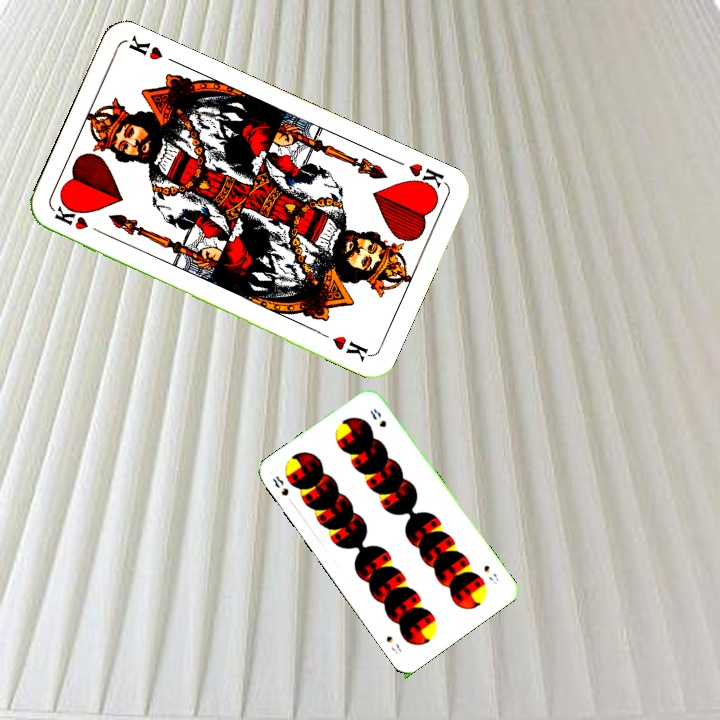HK: (50, 202, 107, 238), (403, 159, 447, 197)
S8: (268, 472, 291, 499), (480, 561, 501, 587)
